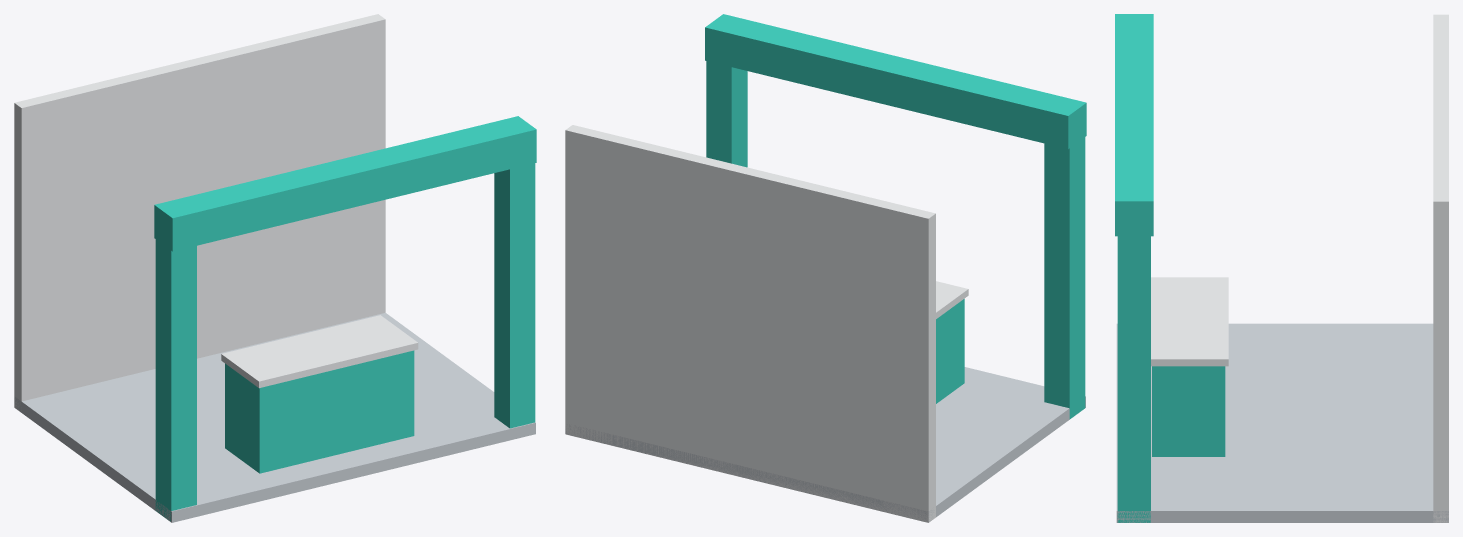
3 renders of one model, left to right at view 1: azimuth 30°, elevation 25°; view 2: azimuth 150°, elevation 25°; view 3: azimuth 270°, elevation 25°, orthographic. The views are drawn at different scales.
Visible parts, largest first — view 1: Exhibition Booth Concept; view 2: Exhibition Booth Concept; view 3: Exhibition Booth Concept.
Part boxes in pixels (x1,y1,x2,y2): Exhibition Booth Concept: [14, 14, 536, 522]; Exhibition Booth Concept: [565, 14, 1086, 522]; Exhibition Booth Concept: [1115, 14, 1448, 522].
Bounding box in the file's own units: 4 × 3.2 × 3.01.
